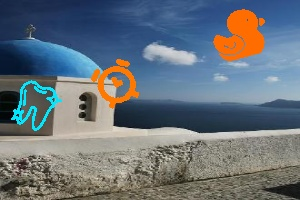牙齿: (10, 80, 60, 131)
闹钟: (91, 59, 144, 104)
鸭子: (215, 9, 268, 57)
